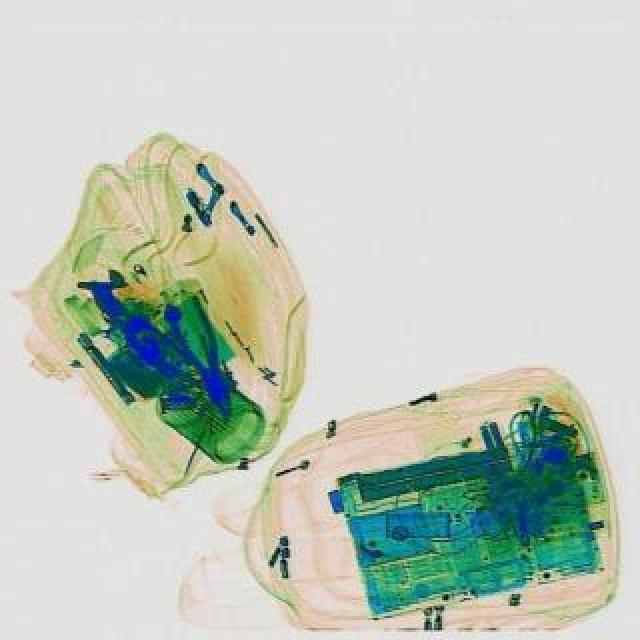wrench: (156, 294, 248, 426)
